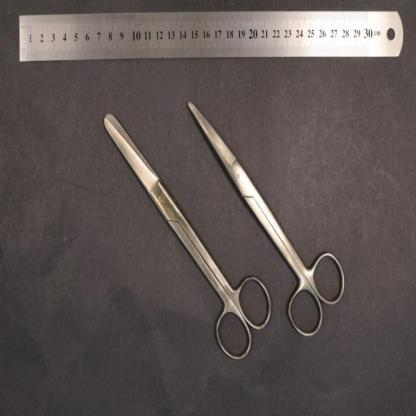Curved Mayo Scissors: (187, 100, 347, 340)
Dressing Scissors: (103, 112, 272, 366)
